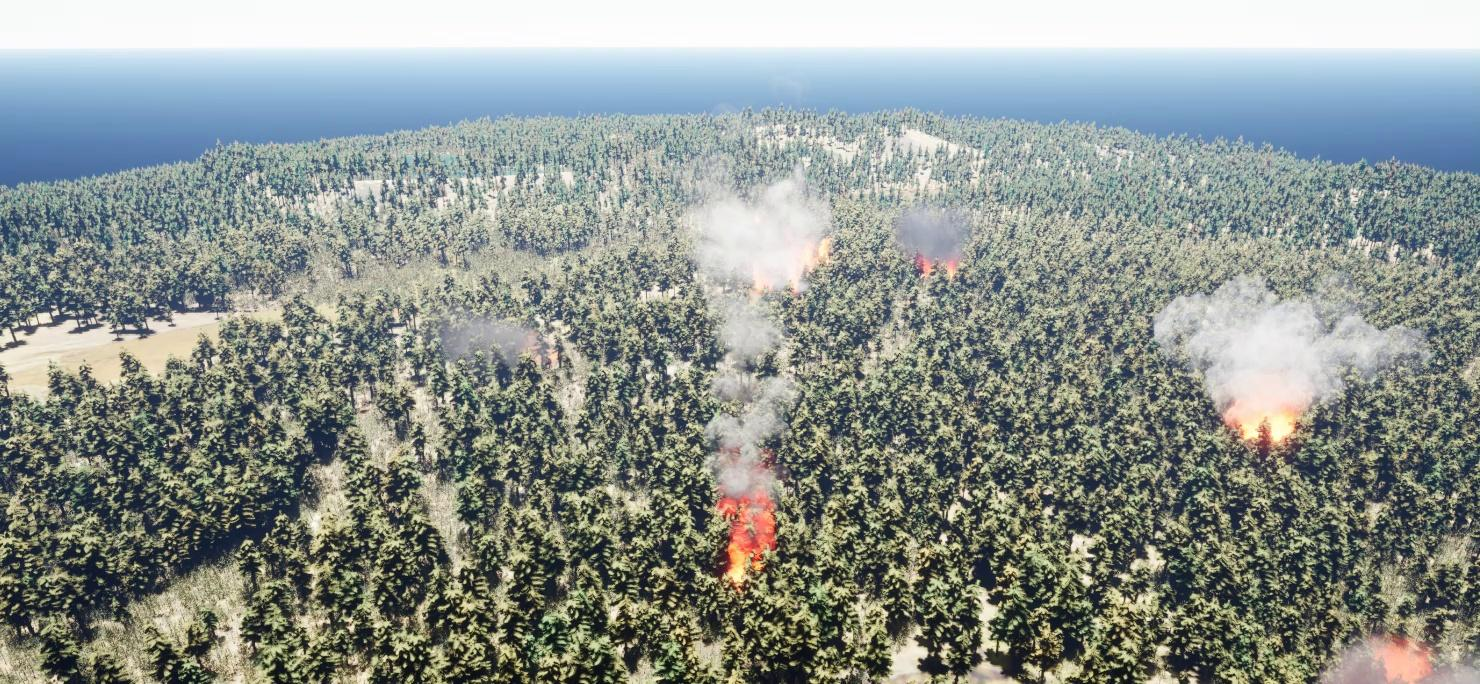fire: (717, 496, 778, 581), (1224, 409, 1307, 437)
smoke: (691, 170, 842, 478), (1158, 268, 1430, 422), (1322, 632, 1479, 683), (435, 311, 548, 381), (901, 209, 983, 281)
